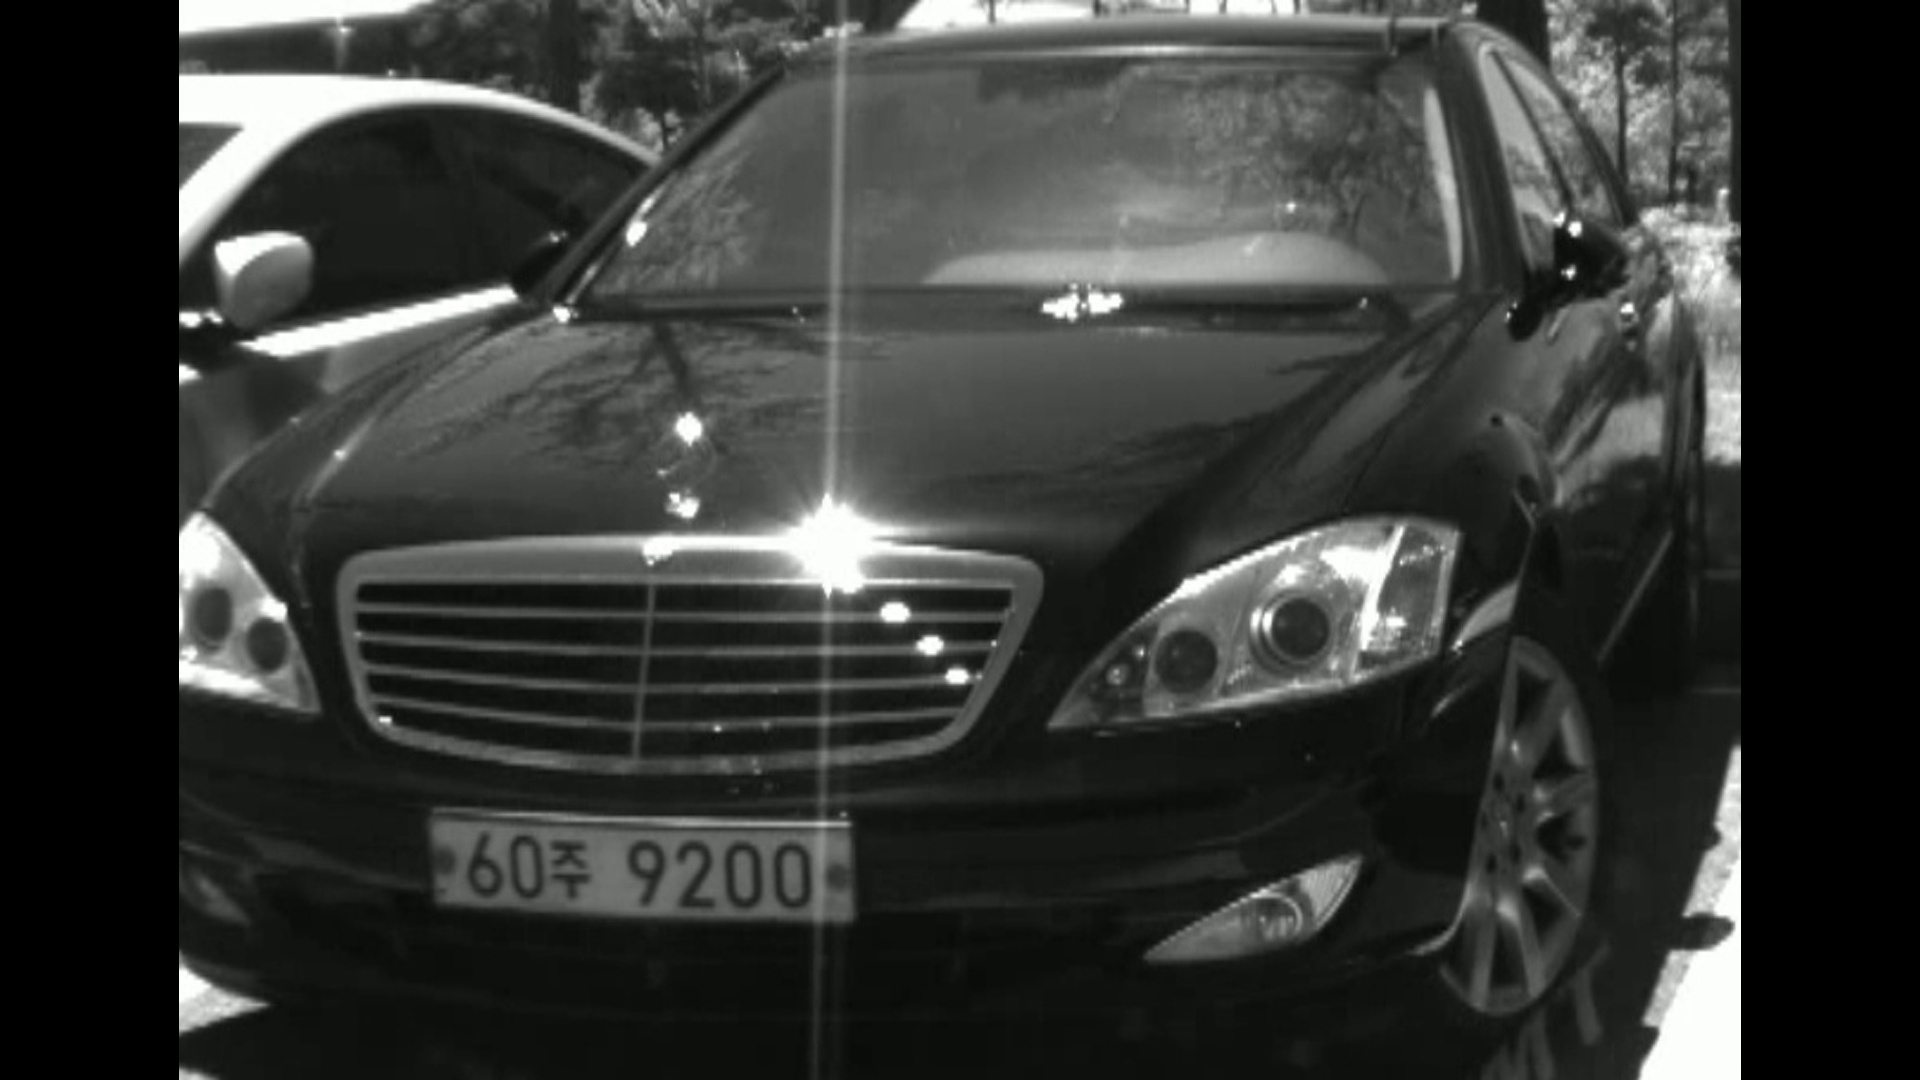license_plate: (416, 803, 859, 933)
